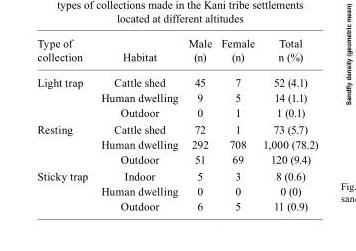table: (36, 36, 317, 211)
table column: (93, 36, 182, 211), (258, 36, 317, 211), (36, 36, 93, 211), (215, 36, 258, 211), (182, 36, 215, 211)
table column header: (36, 36, 317, 69)
table row: (36, 36, 317, 69), (36, 69, 317, 89), (36, 104, 317, 120), (36, 120, 317, 136), (36, 151, 317, 167), (36, 167, 317, 183), (36, 89, 317, 104), (36, 136, 317, 151), (36, 183, 317, 198), (36, 198, 317, 211)
table spanning cell: (36, 69, 93, 120), (36, 120, 93, 167), (36, 167, 93, 211)
